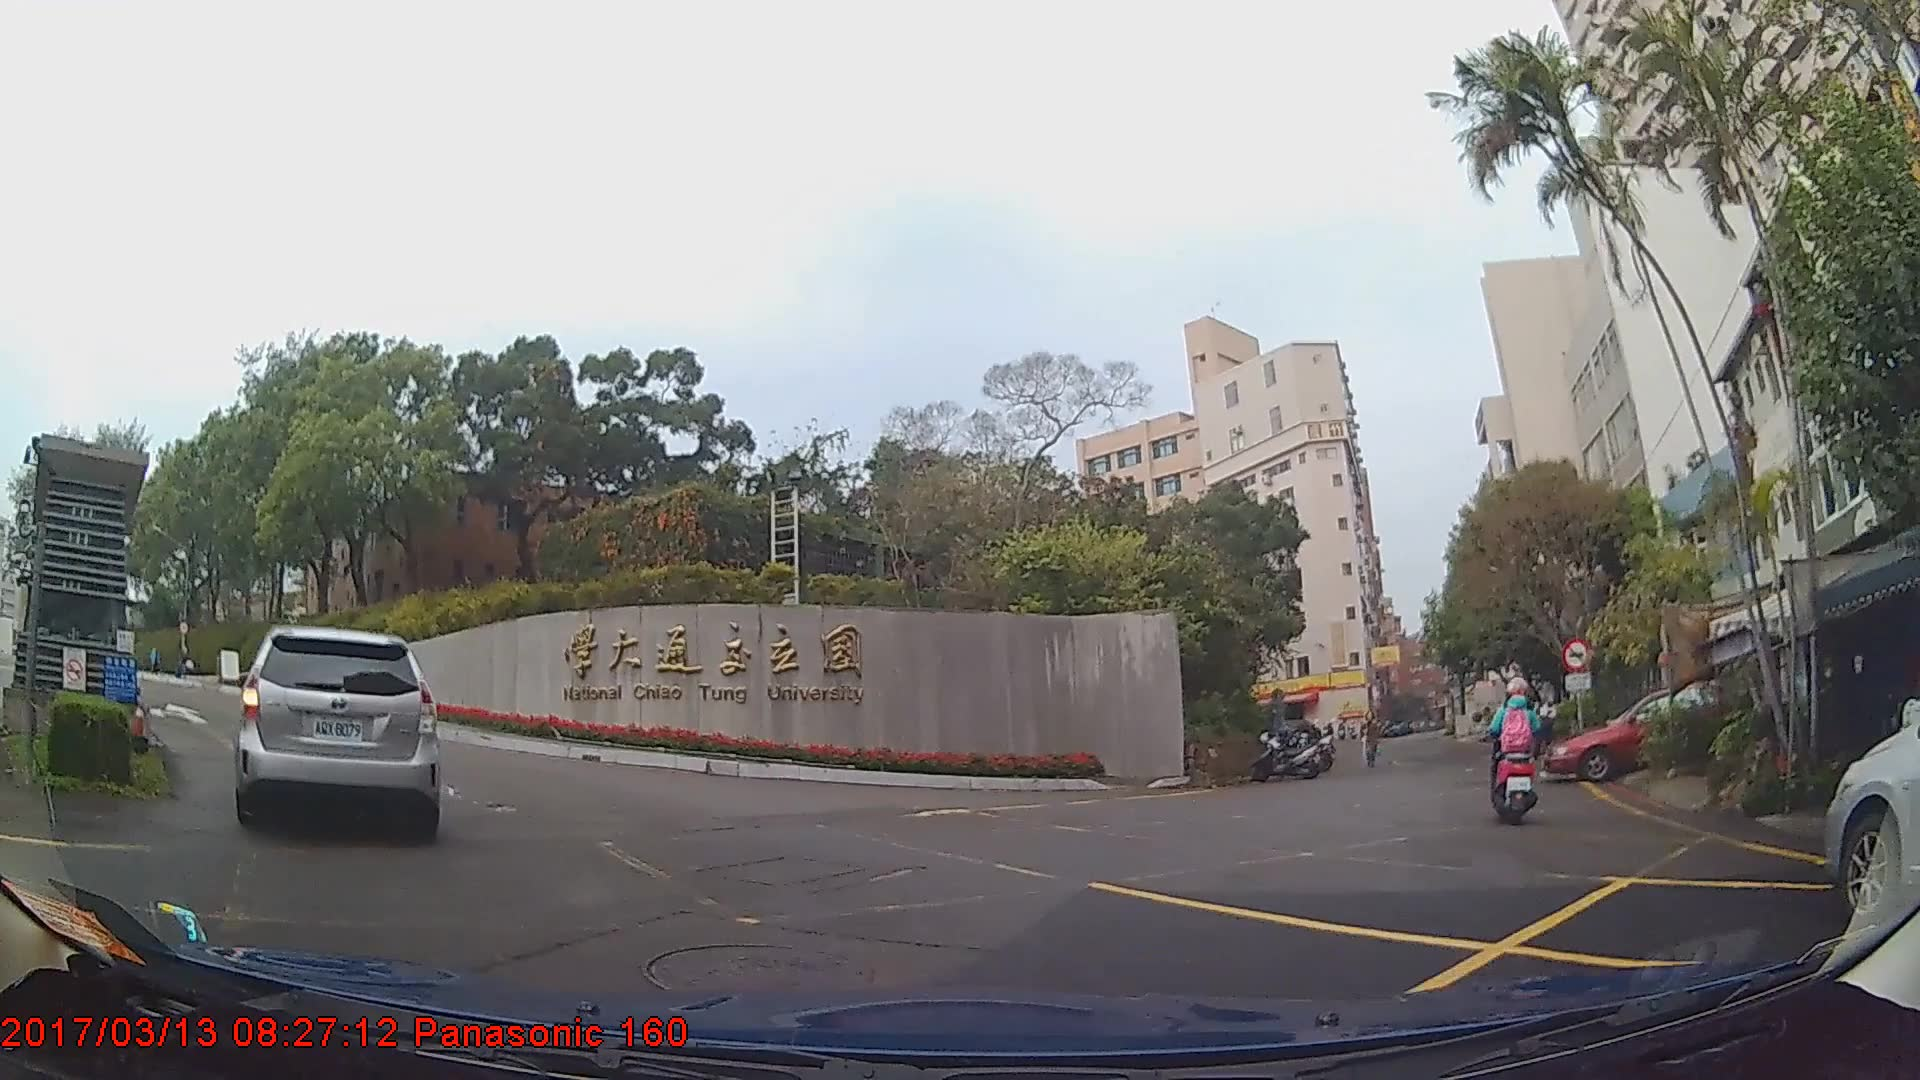pedestrian: (1360, 711, 1383, 768)
rider: (1489, 665, 1542, 821)
vehicle: (233, 624, 439, 839), (1820, 714, 1920, 927), (1543, 684, 1742, 783)
